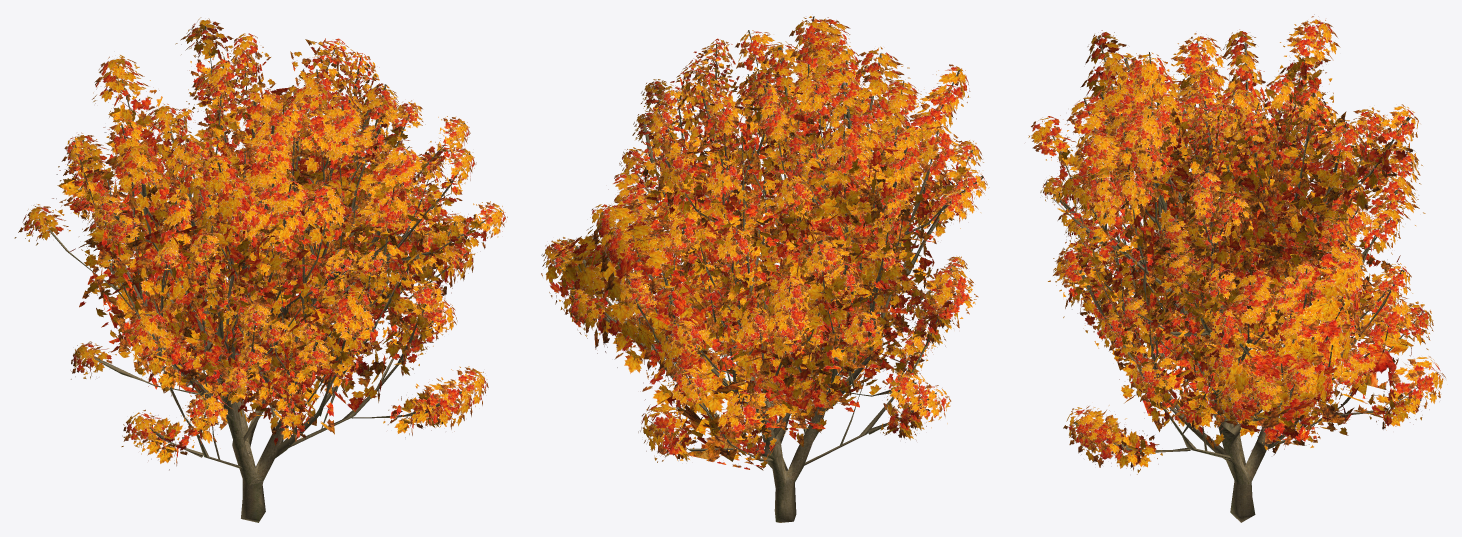
The model's file is Maple_Tree.fbx.
3 views of the same model, side by side, from view 1: azimuth 30°, elevation 25°; view 2: azimuth 150°, elevation 25°; view 3: azimuth 270°, elevation 25° (orthographic). The views are drawn at different scales.
Visible parts, largest first — view 1: Tree_3_Crown_LOD0, Tree_3_Trunk_LOD0; view 2: Tree_3_Crown_LOD0, Tree_3_Trunk_LOD0; view 3: Tree_3_Crown_LOD0, Tree_3_Trunk_LOD0.
Boxes of the visible parts, <box> form: Tree_3_Crown_LOD0: <box>14,17,507,470</box>; Tree_3_Trunk_LOD0: <box>39,26,501,522</box>; Tree_3_Crown_LOD0: <box>541,16,989,470</box>; Tree_3_Trunk_LOD0: <box>552,16,983,522</box>; Tree_3_Crown_LOD0: <box>1028,14,1445,474</box>; Tree_3_Trunk_LOD0: <box>1045,36,1437,522</box>.
Size of what is drawn, in the model's own units: 651 by 734 by 596.
